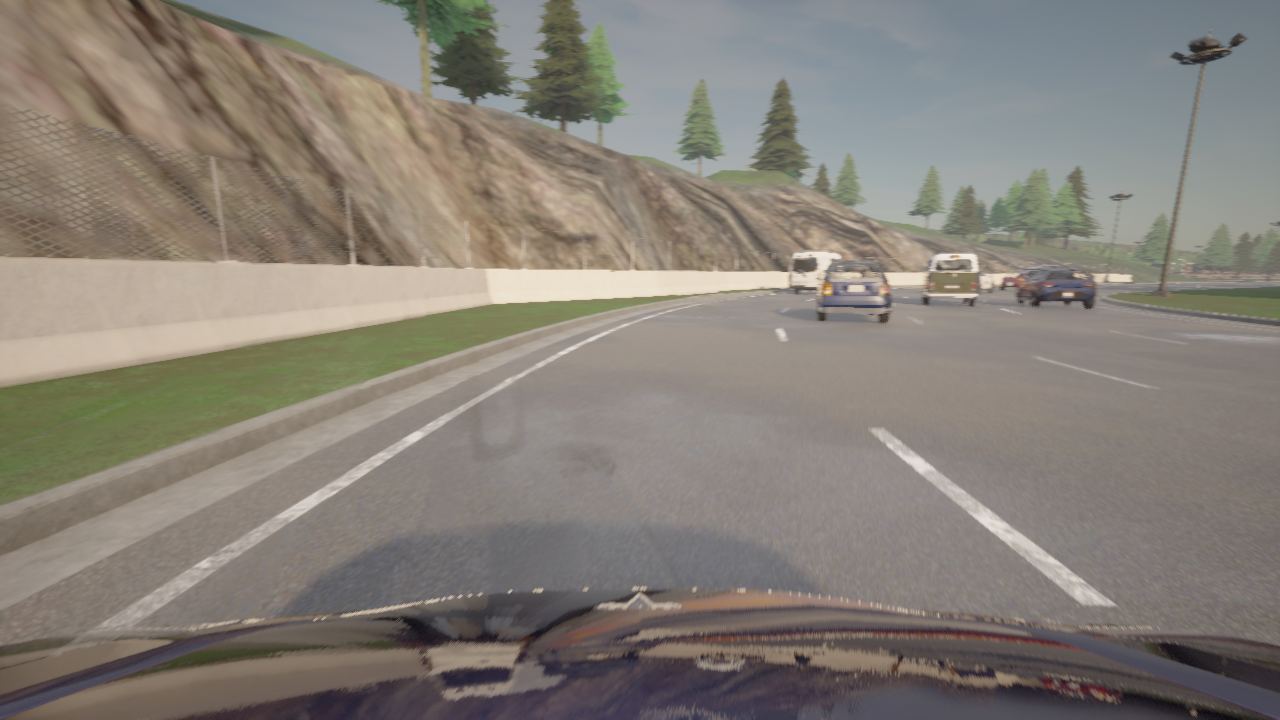cyclist: (0, 588, 1279, 719), (815, 261, 891, 322), (1017, 268, 1096, 308), (921, 252, 978, 305), (789, 251, 842, 293), (999, 271, 1034, 290), (1019, 264, 1066, 272), (990, 280, 992, 281)
